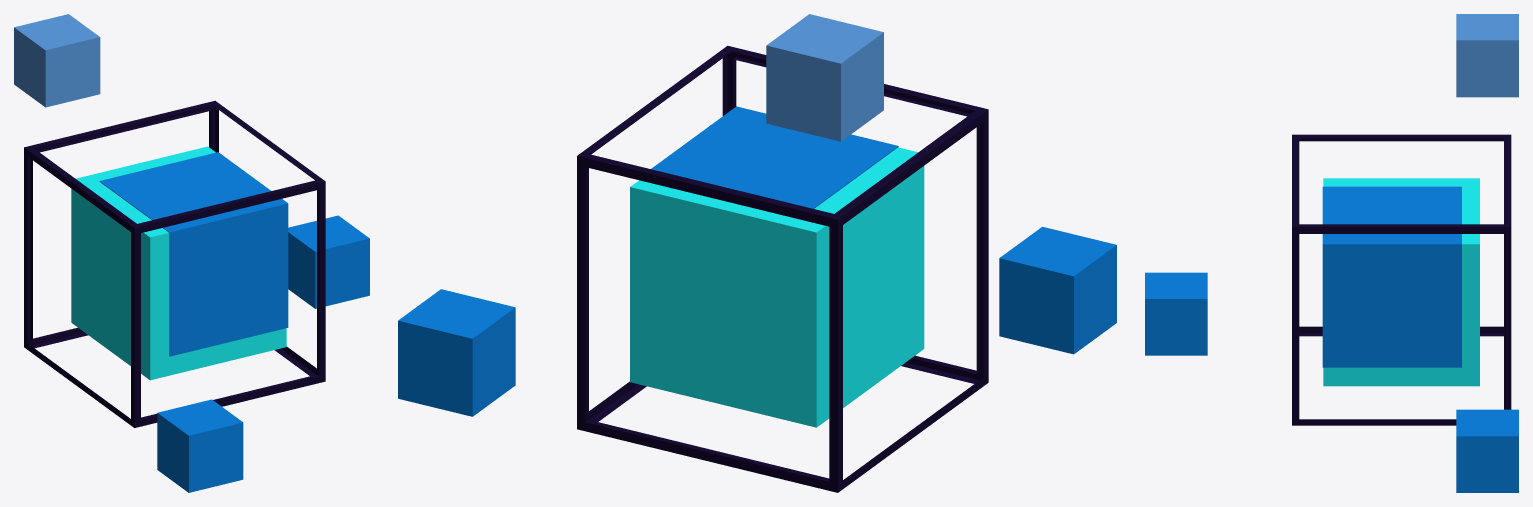
File: vhass4d.glb
The picture shows the model from 3 angles, left to right: view 1: azimuth 30°, elevation 25°; view 2: azimuth 150°, elevation 25°; view 3: azimuth 270°, elevation 25°; orthographic projection. The views are drawn at different scales.
Visible parts, largest first — view 1: Cube.003, Cube.001, Cube.002, Cube, Cube.004, Cube.005; view 2: Cube.001, Cube.002, Cube.003, Cube.004, Cube.005, Cube; view 3: Cube.003, Cube.002, Cube.001, Cube, Cube.004, Cube.005.
Boxes of the visible parts, x1,y1,x2,y2 form: Cube.003: [99, 152, 288, 356]; Cube.001: [71, 146, 286, 380]; Cube.002: [24, 100, 325, 427]; Cube: [14, 14, 100, 107]; Cube.004: [157, 399, 243, 492]; Cube.005: [288, 215, 369, 308]; Cube.001: [630, 147, 924, 427]; Cube.002: [577, 45, 988, 492]; Cube.003: [651, 106, 898, 208]; Cube.004: [999, 226, 1116, 354]; Cube.005: [398, 289, 515, 416]; Cube: [766, 14, 883, 141]; Cube.003: [1322, 186, 1461, 367]; Cube.002: [1292, 134, 1511, 425]; Cube.001: [1323, 178, 1479, 386]; Cube: [1456, 14, 1518, 97]; Cube.004: [1145, 272, 1207, 355]; Cube.005: [1456, 409, 1518, 492].
Bounding box in the file's own units: 4.95 × 4.54 × 4.78.
